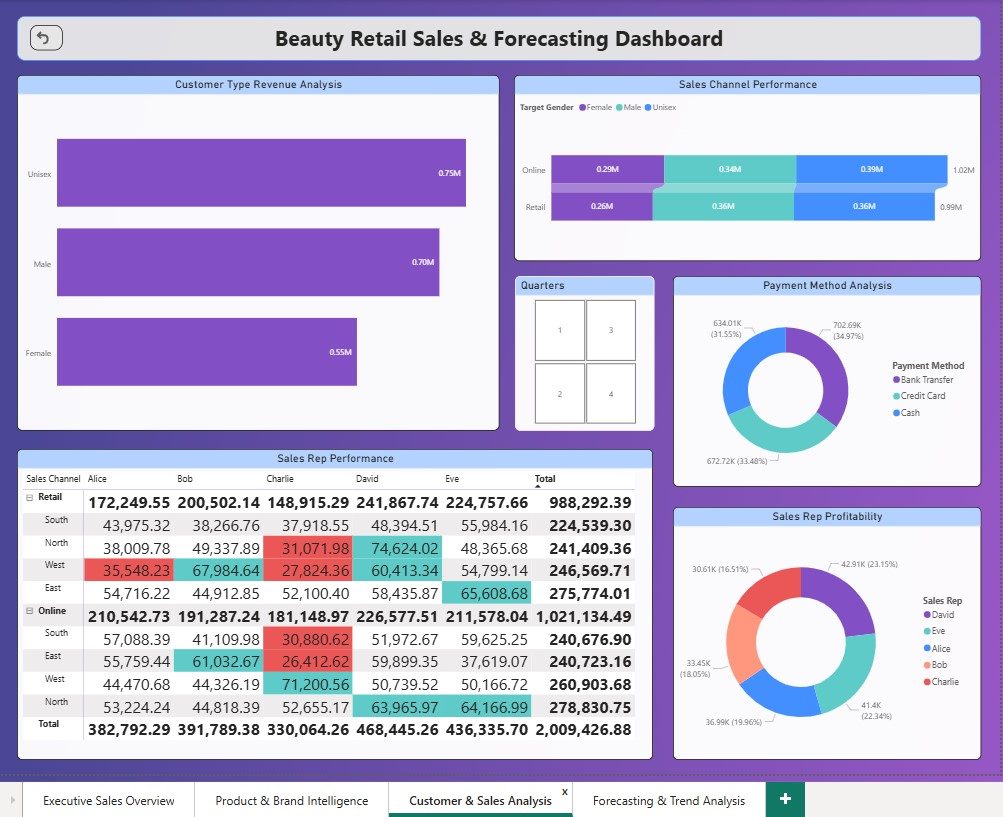

The dashboard page shown, as its layout file describes it:
{"tool":"powerbi","page":{"name":"Customer & Sales Analysis","canvas":[1500,1160],"ordinal":2},"visuals":[{"type":"textbox","box":[26,24.4,1445,67.2],"z":0},{"type":"barChart","title":"Sales Channel Performance","fields":{"Y":["Retail_Fact_Table.TOTAL_Revenue"],"Category":["Retail_Fact_Table.Sales_Channel"],"Series":["Retail_Dim_Table.Gender_Target"]},"box":[770.3,112.4,699.9,278.8],"z":1000},{"type":"donutChart","title":"Payment Method Analysis","fields":{"Category":["Retail_Fact_Table.Payment_Method"],"Y":["Retail_Fact_Table.TOTAL_Revenue"]},"box":[1008.6,413.6,461.6,316.2],"z":2000},{"type":"pivotTable","title":"Sales Rep Performance","fields":{"Rows":["Retail_Fact_Table.Sales_Channel","Retail_Fact_Table.Region"],"Columns":["Retail_Fact_Table.Sales_Rep"],"Values":["Retail_Fact_Table.TOTAL_Revenue"]},"box":[25.5,672.9,953.2,466.1],"z":3000},{"type":"barChart","title":"Customer Type Revenue Analysis","fields":{"Y":["Retail_Fact_Table.TOTAL_Revenue"],"Category":["Retail_Dim_Table.Gender_Target"]},"box":[26,113,722.5,533.1],"z":4000},{"type":"donutChart","title":"Sales Rep Profitability","fields":{"Category":["Retail_Fact_Table.Sales_Rep"],"Y":["Retail_Fact_Table.TOTAL_Profit"]},"box":[1008.6,759.8,461.6,379.2],"z":5000},{"type":"slicer","title":"Quarters","fields":{"Values":["Date_Table.Quarter"]},"box":[771.4,414,209.3,232.2],"z":6000},{"type":"actionButton","box":[44.3,38.2,48.9,38.2],"z":6001}]}

Visuals, with their boxes on the page's 1500x1160 design canvas (x1, y1, x2, y2). These are canvas units, not pixel positions in the 1003x817 screenshot, which may show the page scaled, cropped or inside an application window:
textbox: x1=26 y1=24 x2=1471 y2=92
"Sales Channel Performance" barChart: x1=770 y1=112 x2=1470 y2=391
"Payment Method Analysis" donutChart: x1=1009 y1=414 x2=1470 y2=730
"Sales Rep Performance" pivotTable: x1=26 y1=673 x2=979 y2=1139
"Customer Type Revenue Analysis" barChart: x1=26 y1=113 x2=748 y2=646
"Sales Rep Profitability" donutChart: x1=1009 y1=760 x2=1470 y2=1139
"Quarters" slicer: x1=771 y1=414 x2=981 y2=646
actionButton: x1=44 y1=38 x2=93 y2=76
